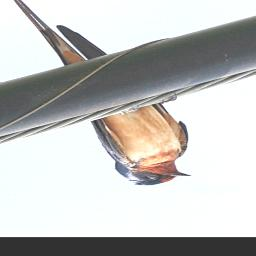Swallow: (7, 0, 192, 187)
